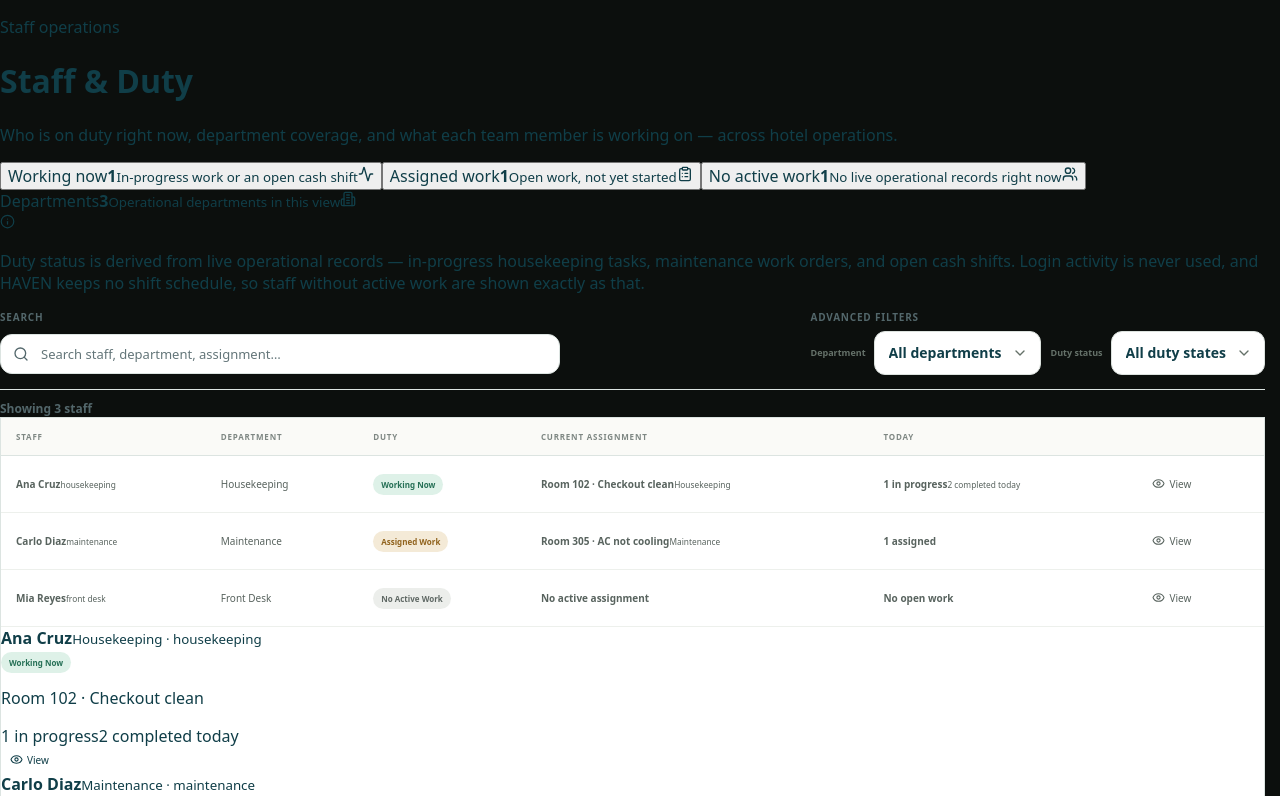
Scenario: StaffDutyPanel › filters the table when a duty KPI is pressed, and restores on second press
Expected: the table is shown, [1,418,1264,627]
Step 1. Click the button "Working now1In-progress work or an open cash shift" → (191, 176), box [0,162,382,190]
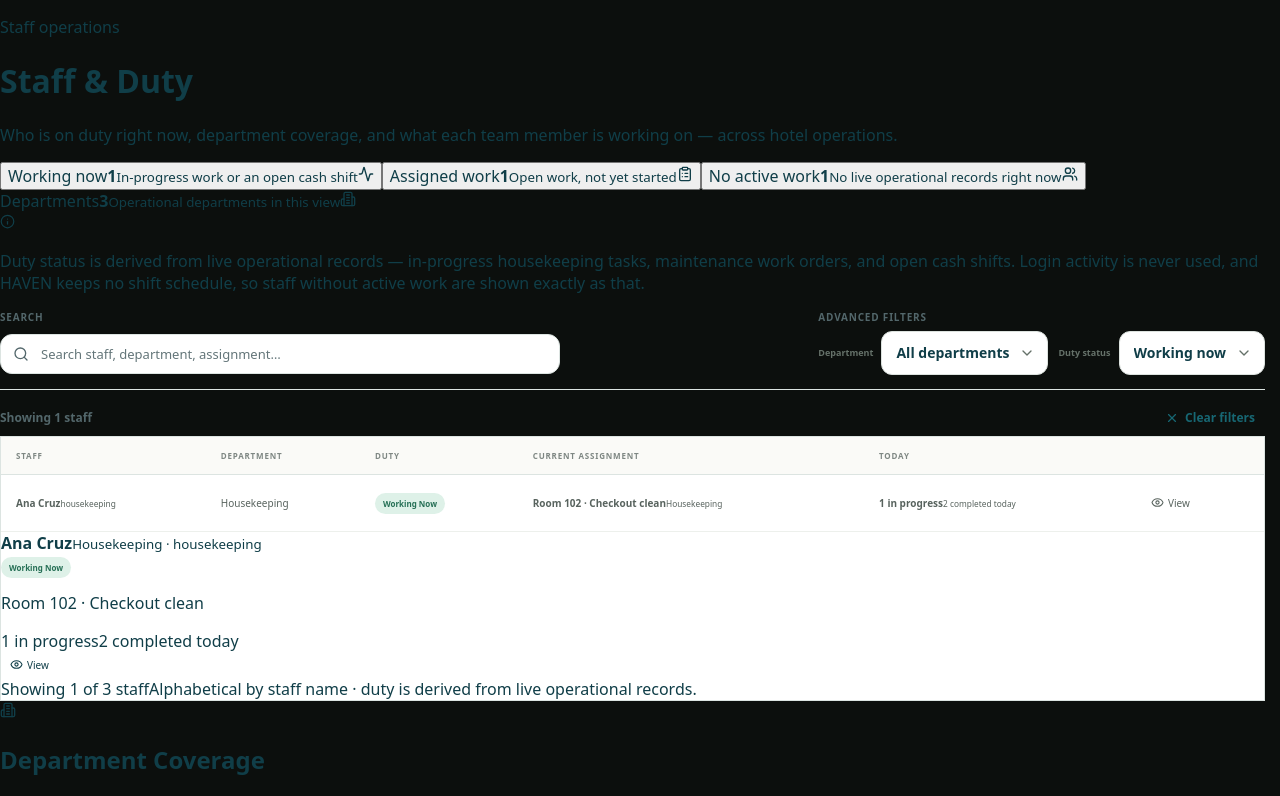
Expected: the 1st text "Ana Cruz" is shown, [16,496,60,510]
Expected: the text "Carlo Diaz" is gone
Step 2. Click the button "Working now1In-progress work or an open cash shift" → (191, 176), box [0,162,382,190]
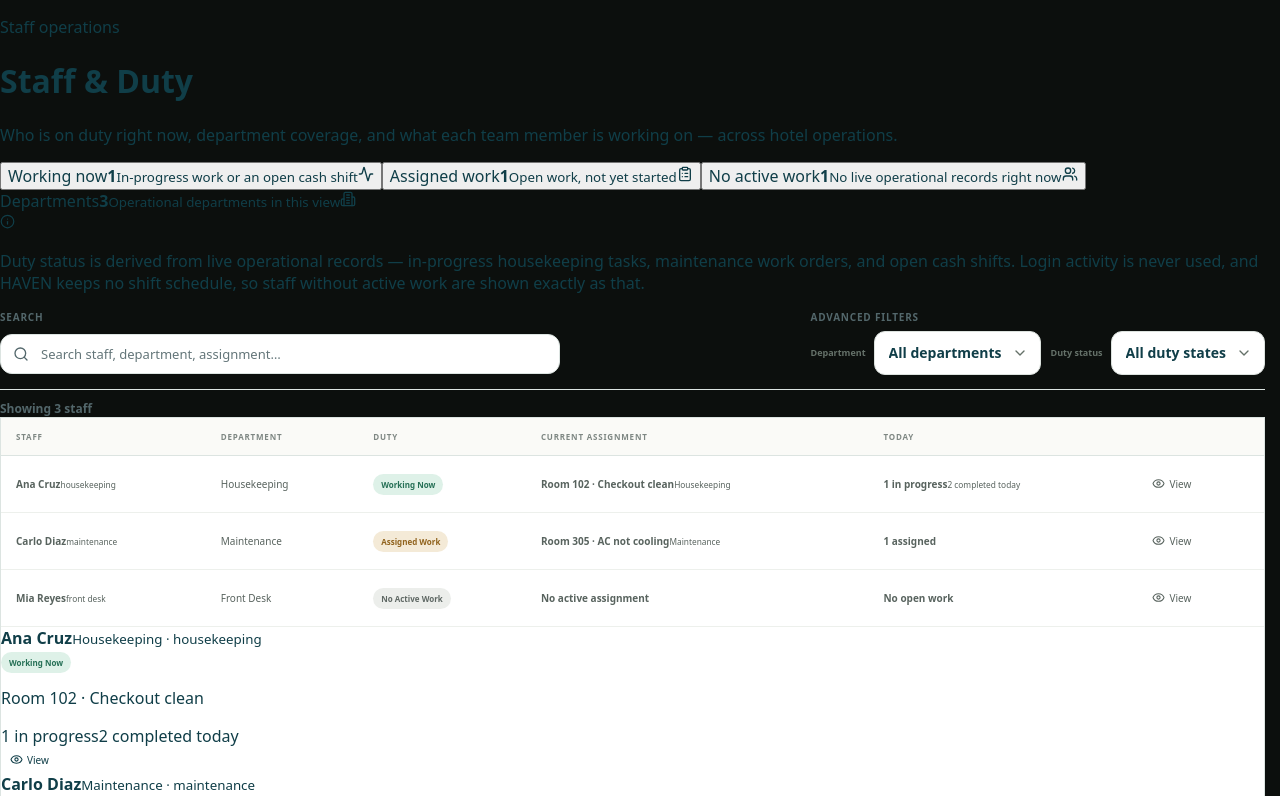
Expected: the 1st text "Carlo Diaz" is shown, [16,534,66,548]
